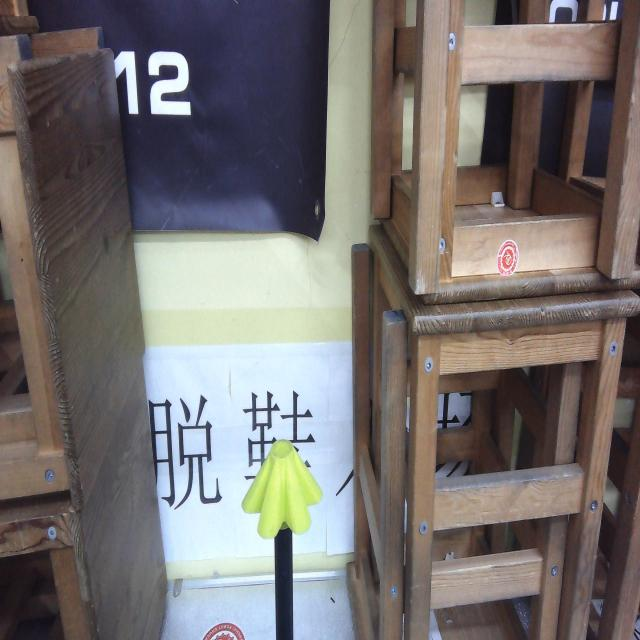Yellow-Stake-Head: (241, 440, 323, 540)
